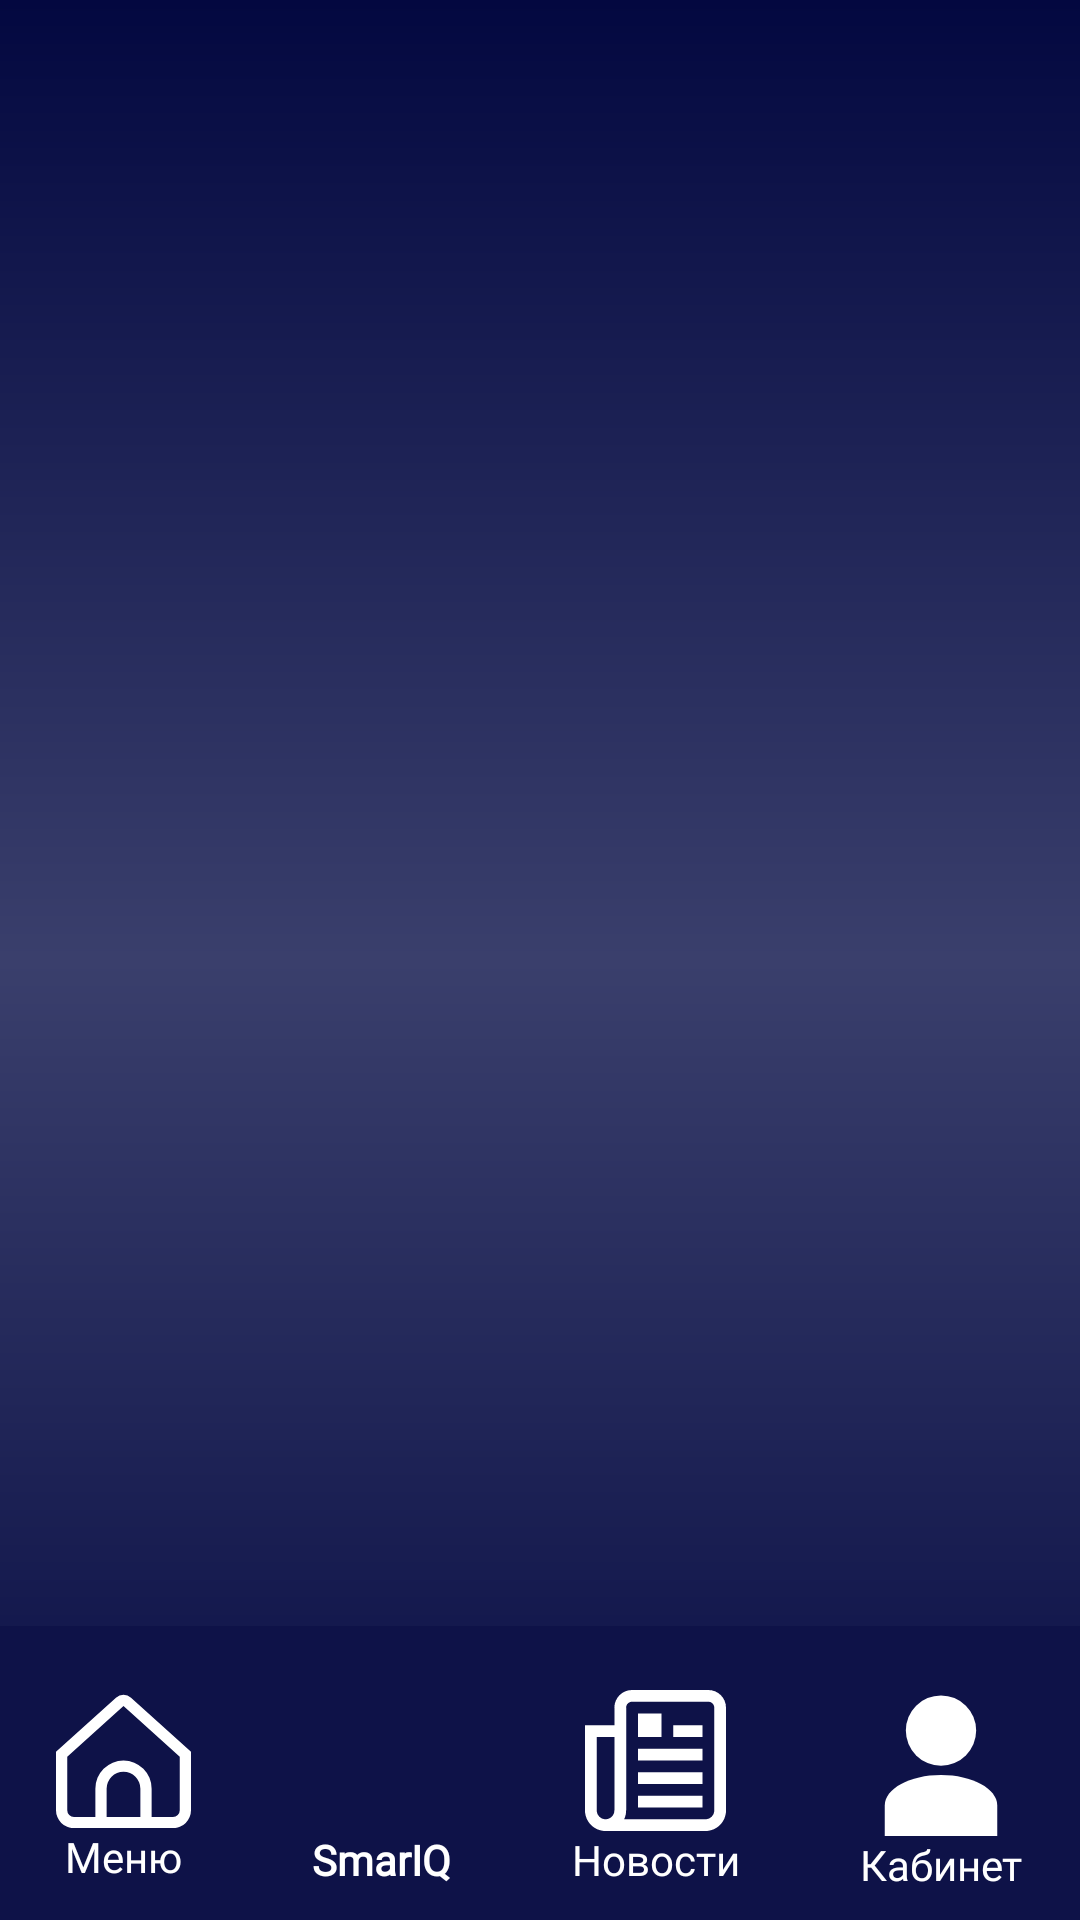

Screen size 1080px×1920px. Icon name, then its center in pixels as [x,y]:
home: [123,1761]
